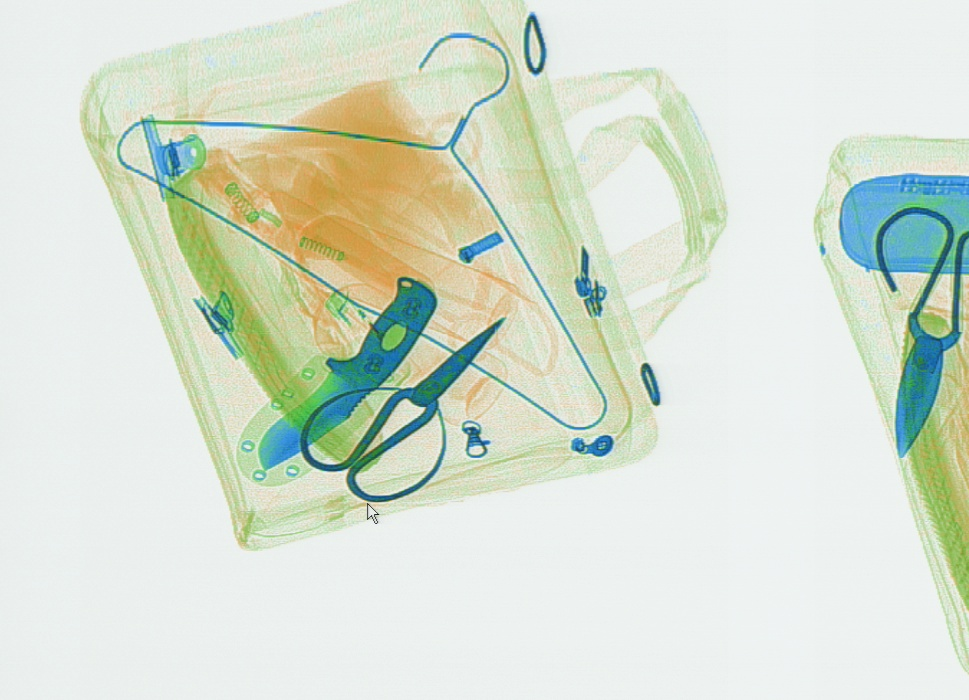knife: (254, 278, 441, 475)
lighter: (322, 287, 411, 388)
scissors: (302, 313, 511, 503), (872, 205, 966, 456)
